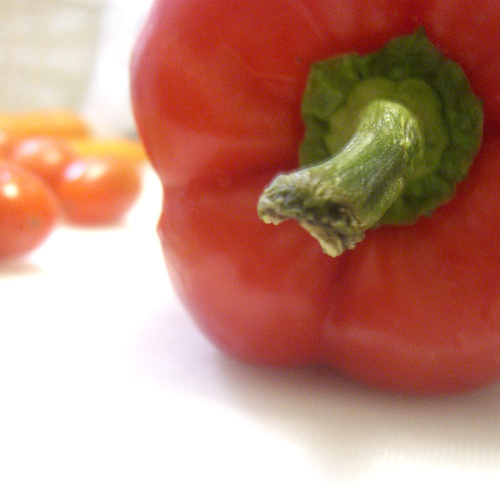capsicum: (125, 0, 498, 398)
